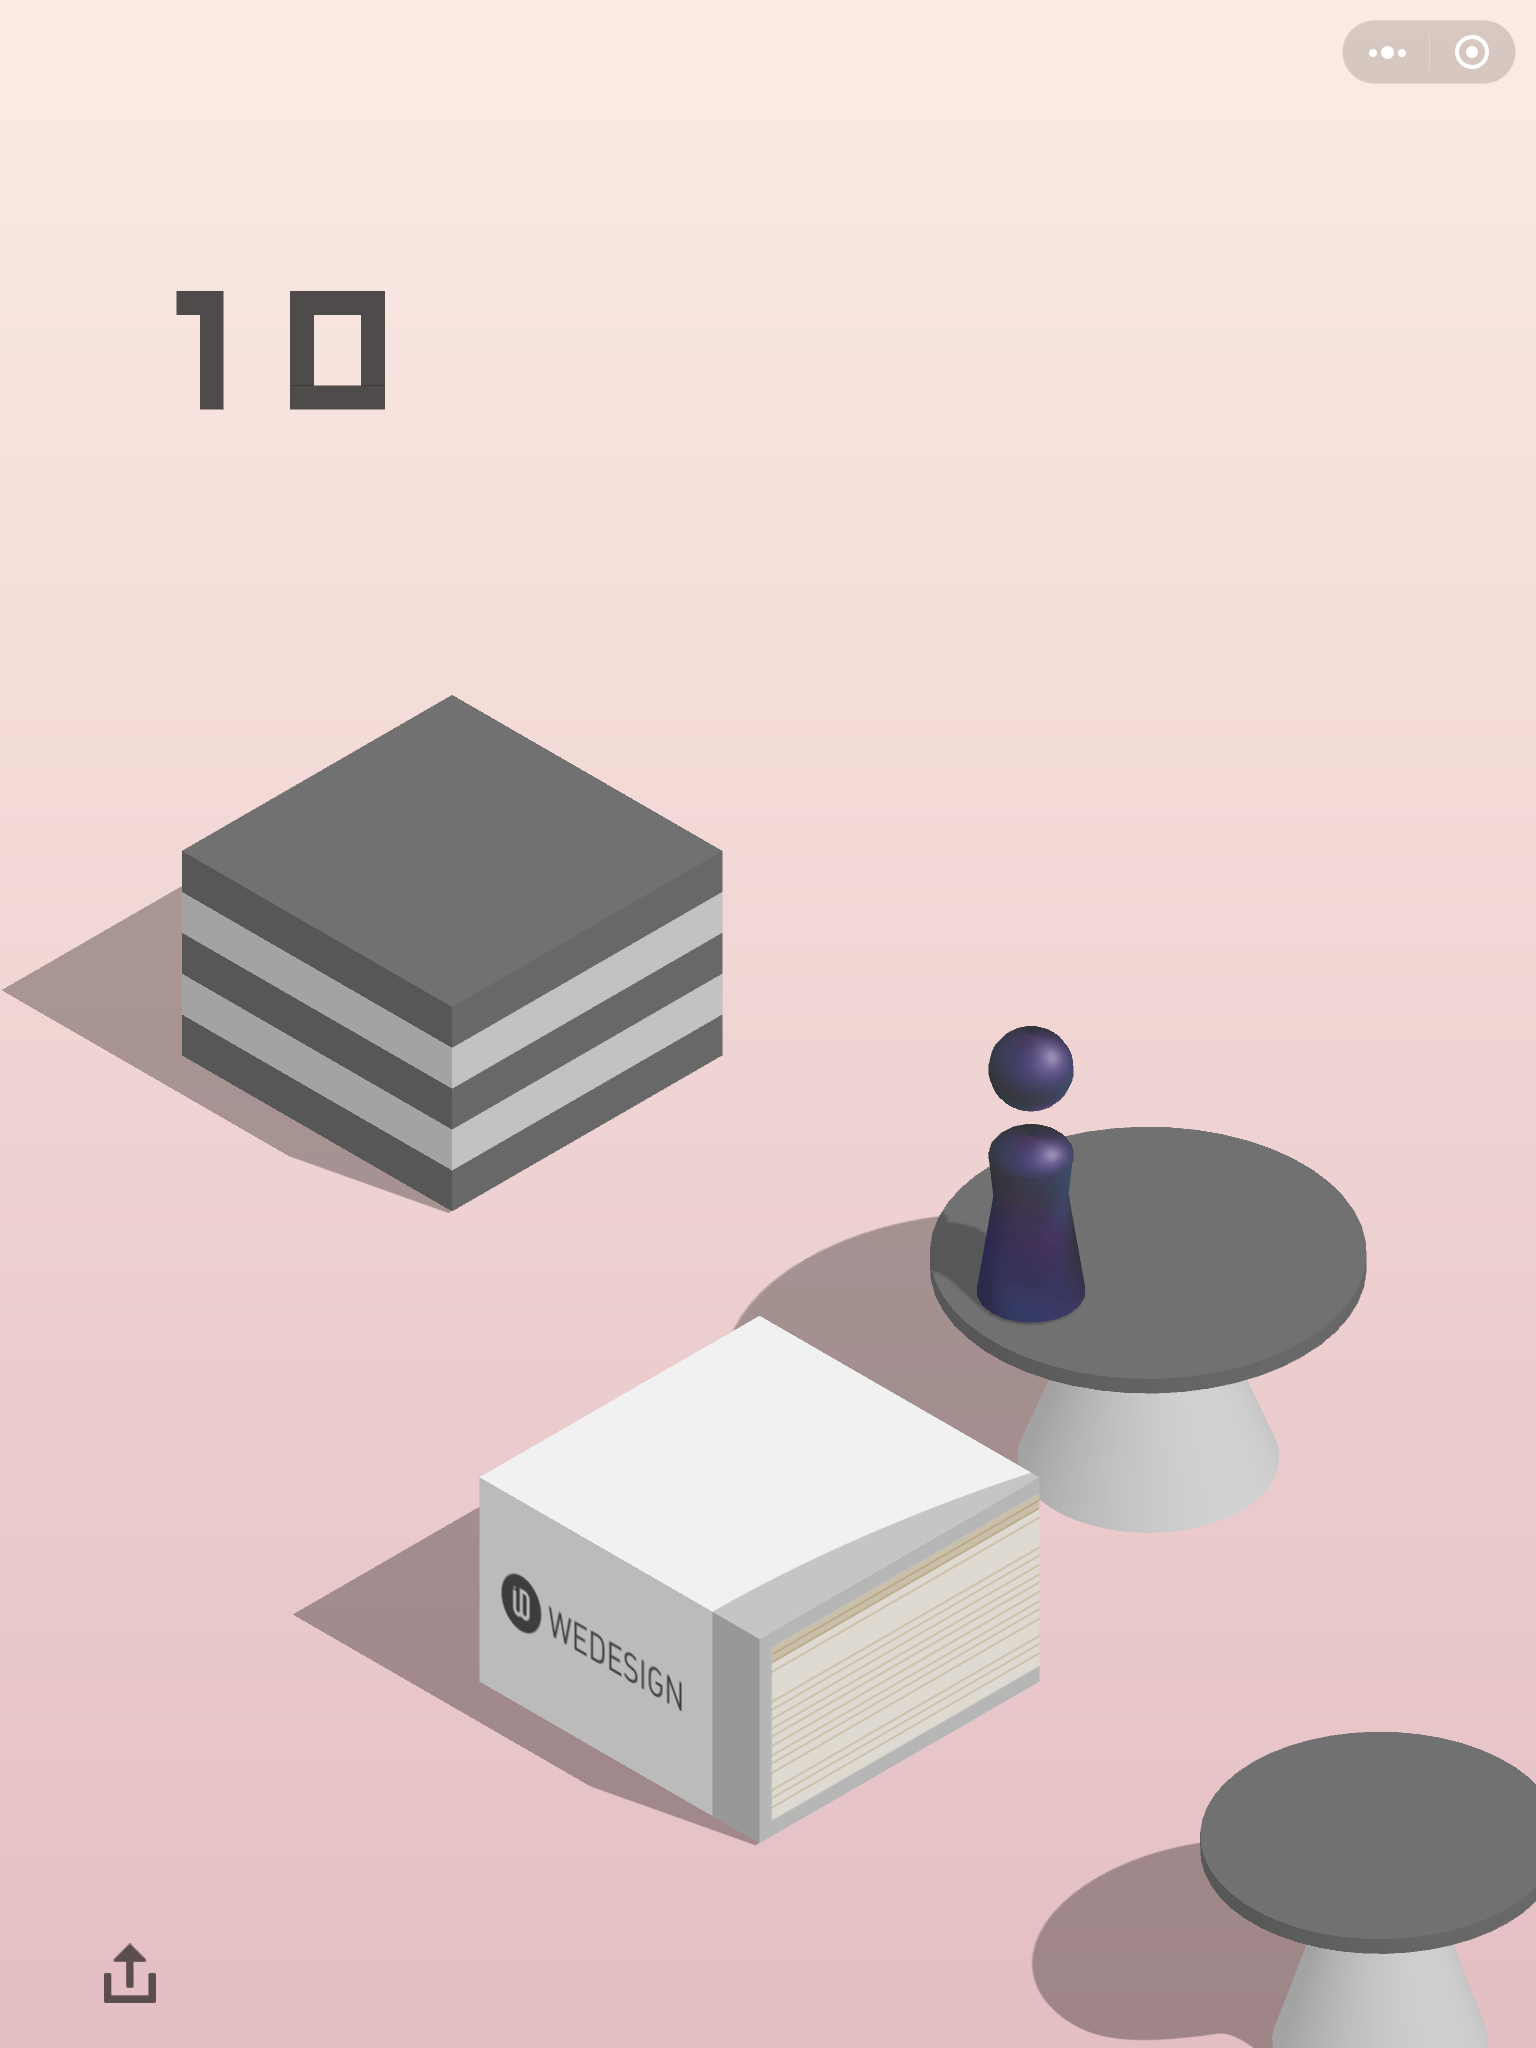c: (926, 1119, 1371, 1535), (1196, 1725, 1536, 2046)
f: (473, 1311, 1047, 1846), (174, 689, 728, 1218)
r: (973, 1022, 1091, 1329)
